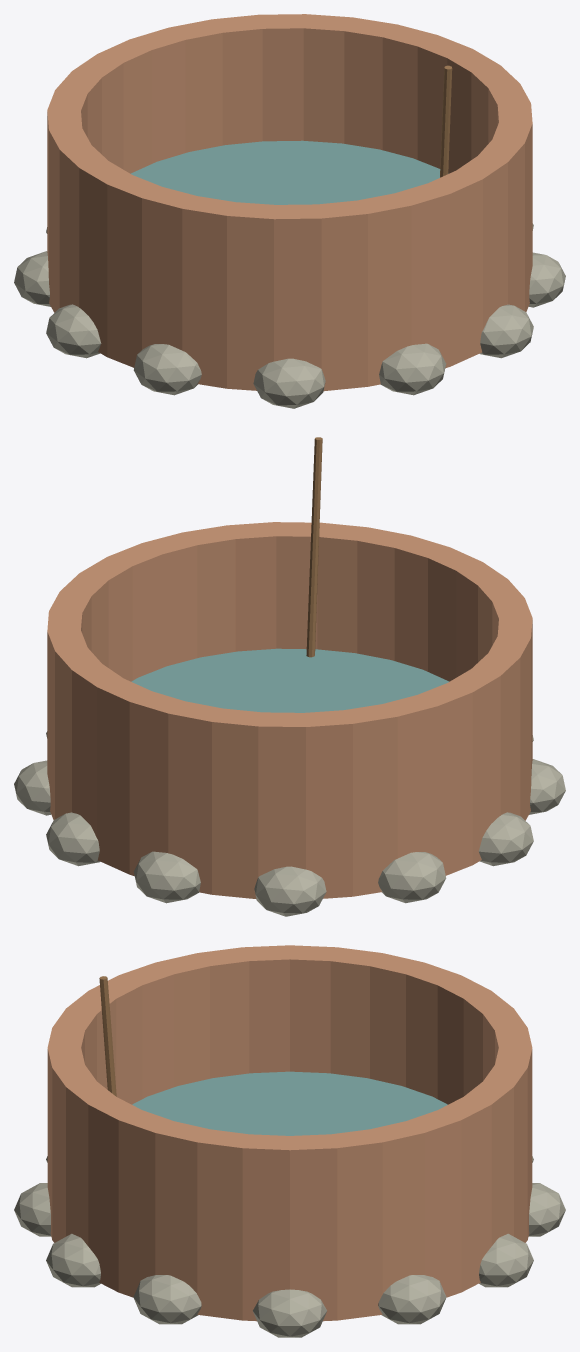
3 renders of one model, top to bottom at view 1: azimuth 30°, elevation 25°; view 2: azimuth 150°, elevation 25°; view 3: azimuth 270°, elevation 25°, orthographic.
Parts seen in each view (by area): view 1: CE-022 Open brine settling cistern batched; view 2: CE-022 Open brine settling cistern batched; view 3: CE-022 Open brine settling cistern batched.
Boxes of the visible parts, bbox=[...] form: CE-022 Open brine settling cistern batched: bbox=[14, 14, 565, 408]; CE-022 Open brine settling cistern batched: bbox=[14, 437, 565, 916]; CE-022 Open brine settling cistern batched: bbox=[14, 945, 565, 1337].
Bounding box in the file's own units: 1.47 × 0.8507 × 1.48.
